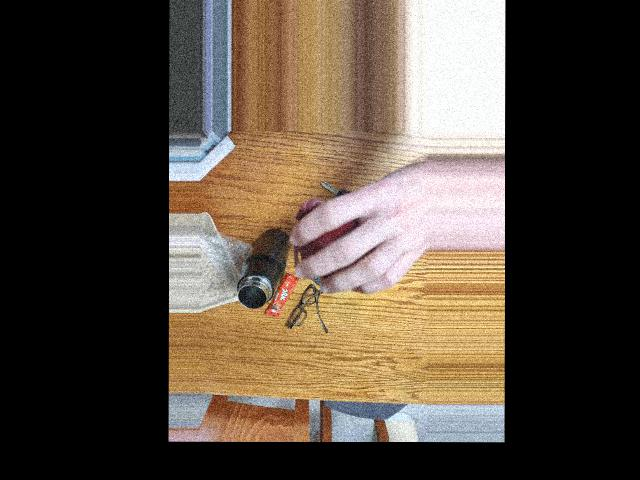onion: (308, 197, 374, 289)
